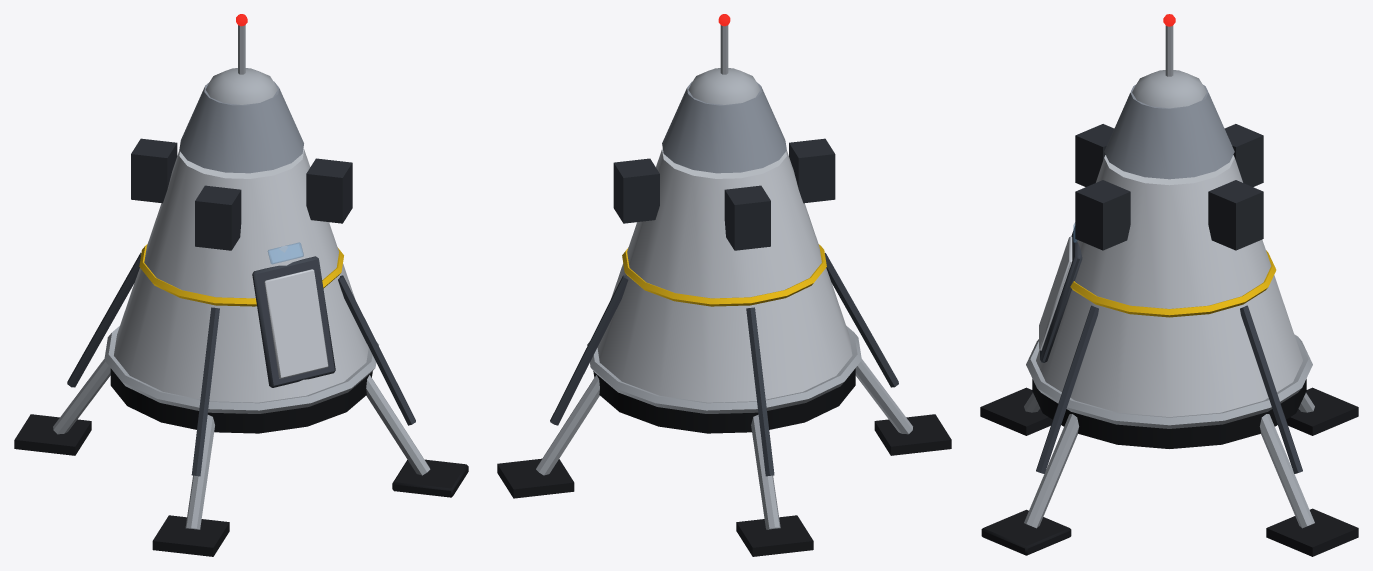
The model's file is craft_drop_pod.glb.
3 renders of one model, left to right at view 1: azimuth 30°, elevation 25°; view 2: azimuth 150°, elevation 25°; view 3: azimuth 270°, elevation 25°, orthographic. The views are drawn at different scales.
Parts seen in each view (by area): view 1: craft_drop_pod; view 2: craft_drop_pod; view 3: craft_drop_pod.
Part boxes in pixels (box(x1,y1,x2,y2)): craft_drop_pod: box(14, 14, 468, 556); craft_drop_pod: box(497, 14, 951, 556); craft_drop_pod: box(980, 14, 1358, 556).
Size of the model in its own units: 2.9 by 3.91 by 2.9.
